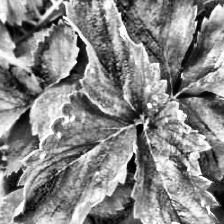Powdery Mildew Leaf: (10, 89, 138, 224), (62, 0, 170, 124), (130, 100, 223, 224)
